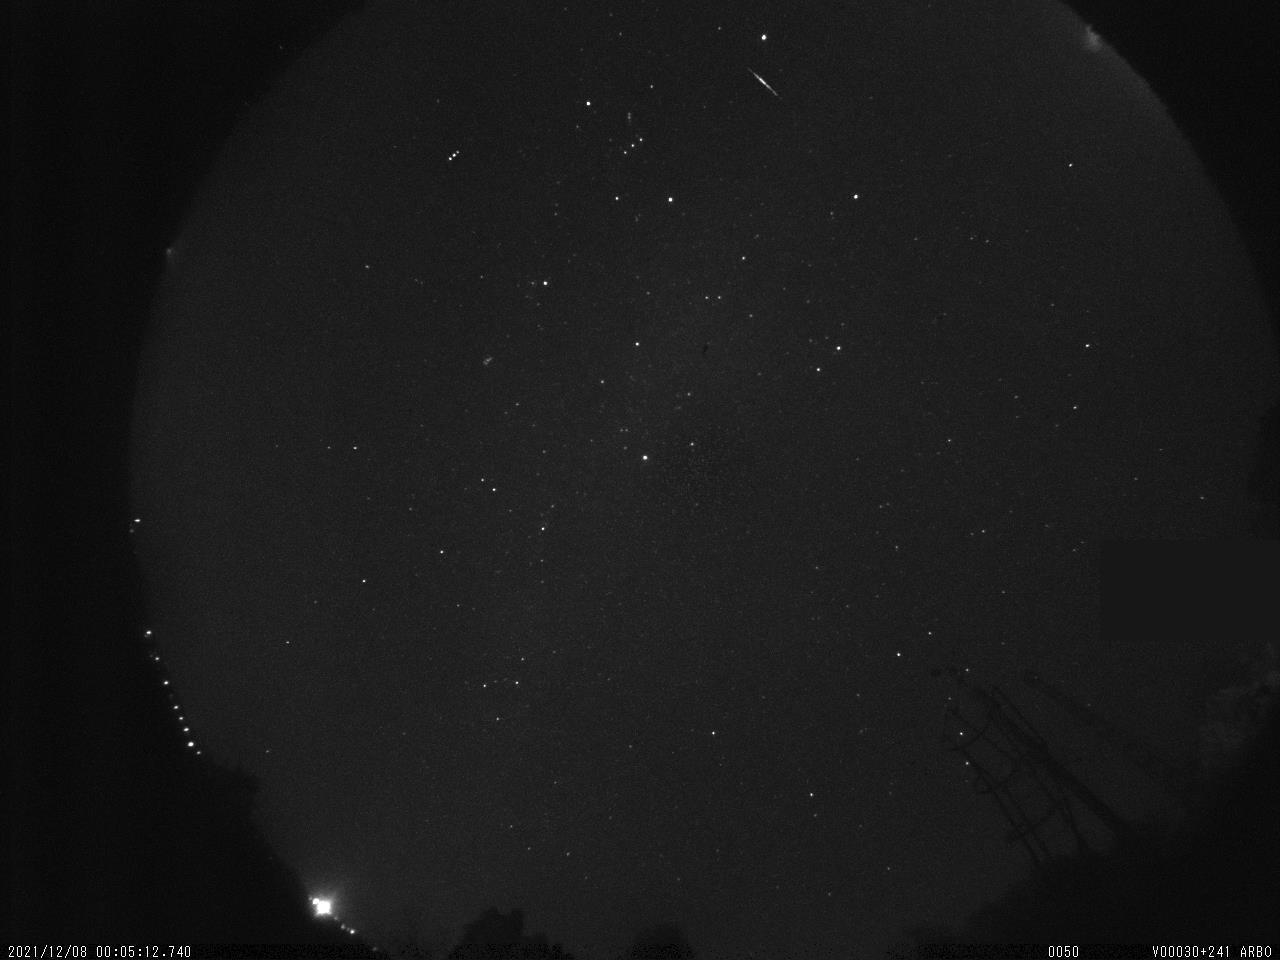Meteor: (744, 64, 787, 101)
